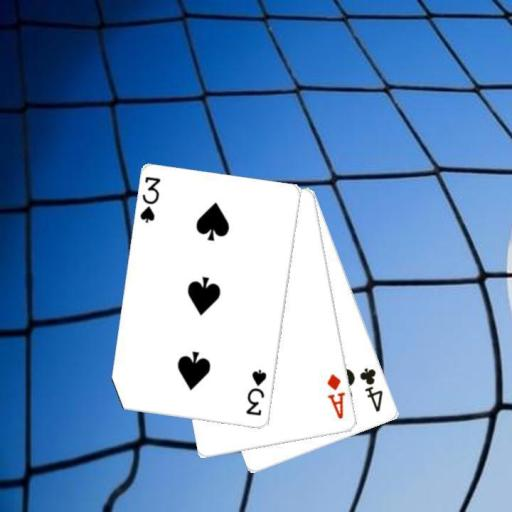card-corner: (357, 365, 385, 414), (243, 367, 269, 418), (137, 174, 162, 224), (324, 371, 347, 421)
